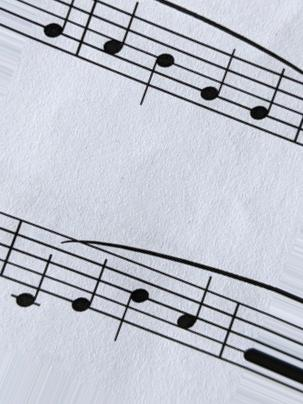note: (10, 219, 52, 317), (111, 256, 153, 344), (171, 273, 212, 357), (246, 58, 286, 142), (138, 21, 176, 109), (71, 242, 112, 320), (196, 41, 235, 120), (102, 2, 139, 83)
